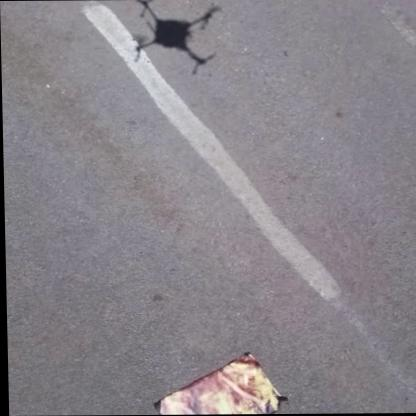fire-poster: (150, 350, 289, 415)
